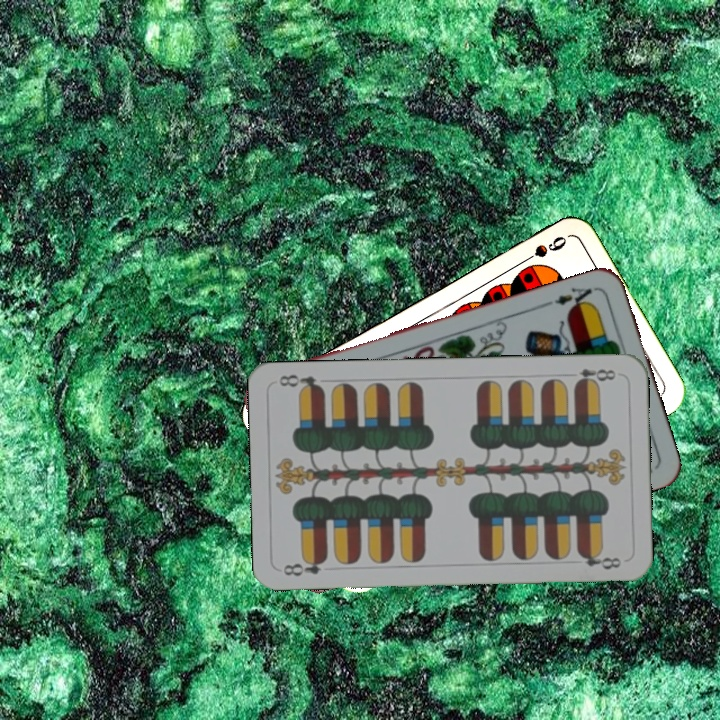E8: (563, 365, 619, 388), (279, 554, 329, 578)
EA: (542, 283, 595, 313)
S9: (515, 231, 570, 268)
